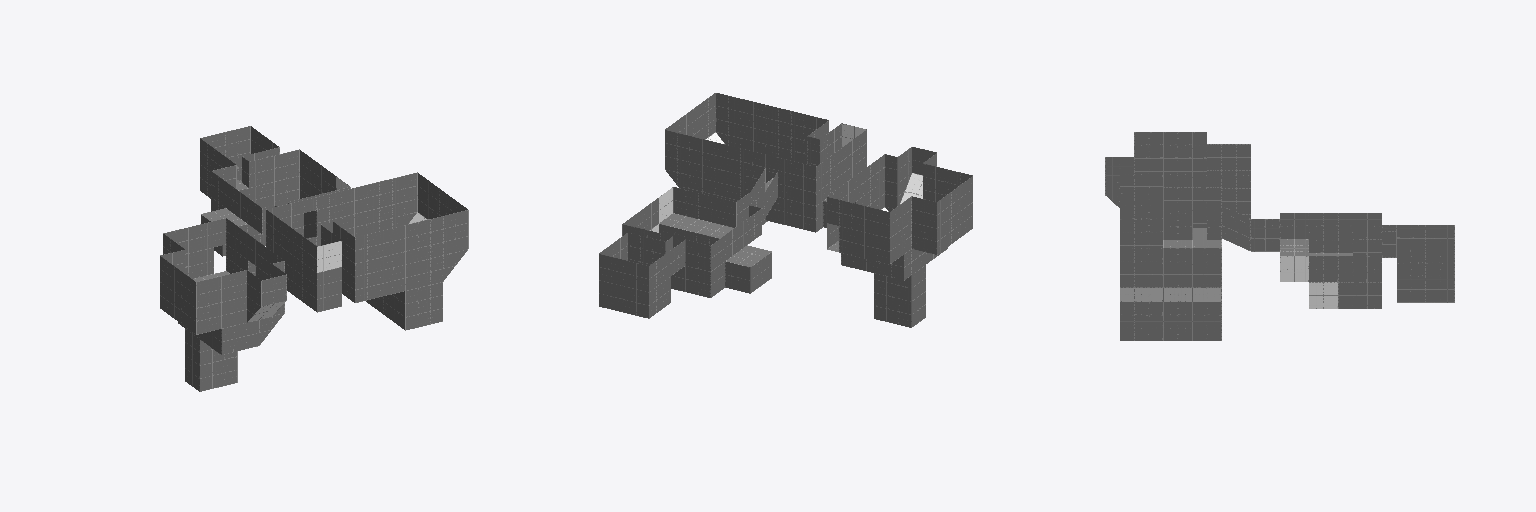
3 views of the same model, side by side, from view 1: azimuth 30°, elevation 25°; view 2: azimuth 150°, elevation 25°; view 3: azimuth 270°, elevation 25° (orthographic).
Visible parts, largest first — view 1: Plane; view 2: Plane; view 3: Plane.
Part boxes in pixels (x1,y1,x2,y2): Plane: (160, 126, 468, 391); Plane: (599, 93, 972, 327); Plane: (1105, 132, 1454, 340).
Size of the model in its own units: 21 by 11 by 24.
2 materials, 2 textured.